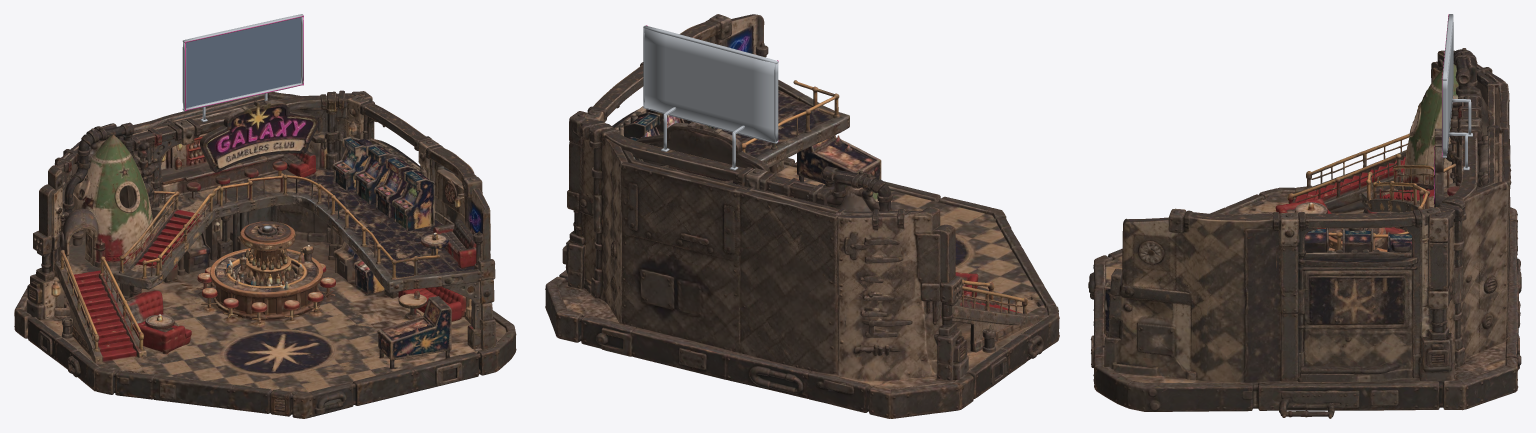
File: kfb-meshy-retro-arcade-casino.screen-a.v1.glb
3 views of the same model, side by side, from view 1: azimuth 30°, elevation 25°; view 2: azimuth 150°, elevation 25°; view 3: azimuth 270°, elevation 25° (orthographic). The views are drawn at different scales.
Visible parts, largest first — view 1: retro_arcade_casino, kfb_screen_slot, kfb_screen_frame; view 2: retro_arcade_casino, kfb_screen_frame; view 3: retro_arcade_casino, kfb_screen_frame.
Boxes of the visible parts, x1,y1,x2,y2 form: retro_arcade_casino: (14,90,516,418); kfb_screen_slot: (186,17,300,107); kfb_screen_frame: (182,14,303,121); retro_arcade_casino: (545,14,1059,418); kfb_screen_frame: (643,25,778,170); retro_arcade_casino: (1088,48,1521,418); kfb_screen_frame: (1441,14,1472,170).
Size of the model in its own units: 1.9 by 1.21 by 1.64.
Materials: 4 (1 with a texture image).
